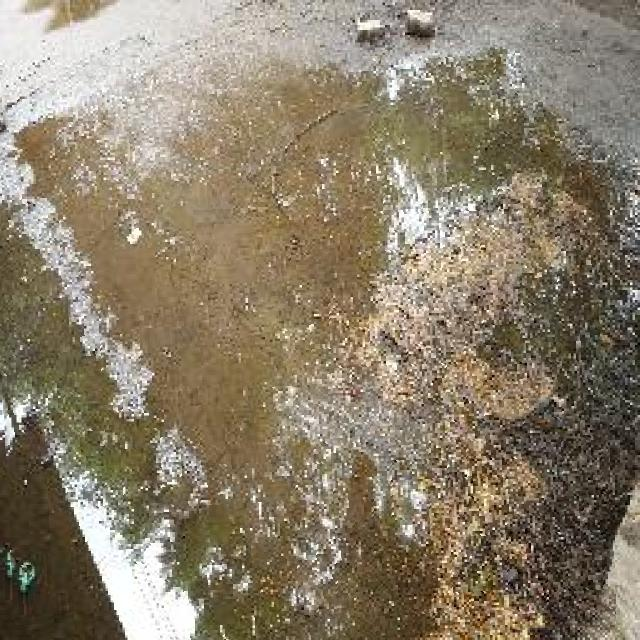puddle: (1, 49, 610, 640)
